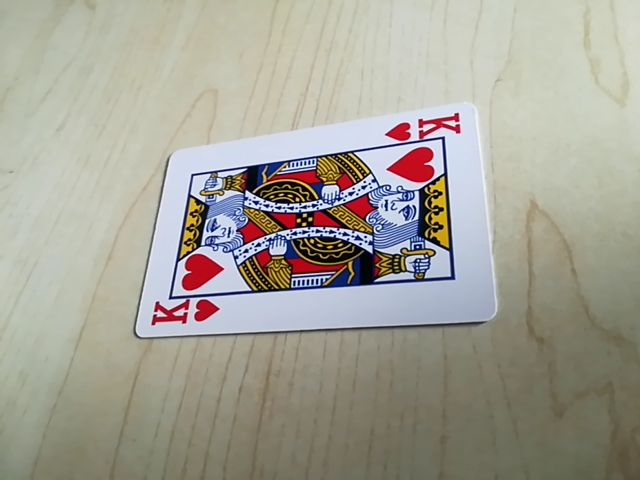hx k: (145, 294, 223, 334), (385, 111, 465, 145)
